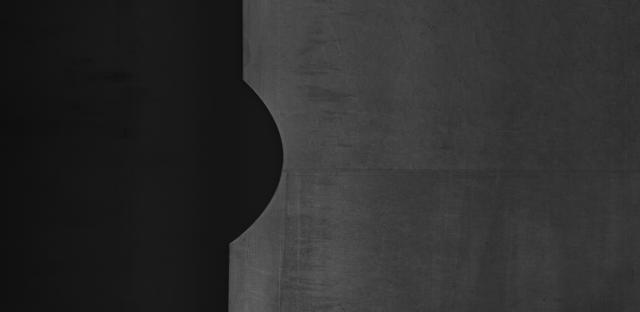crescent_gap: (204, 75, 298, 252)
welding_line: (272, 148, 640, 184)
